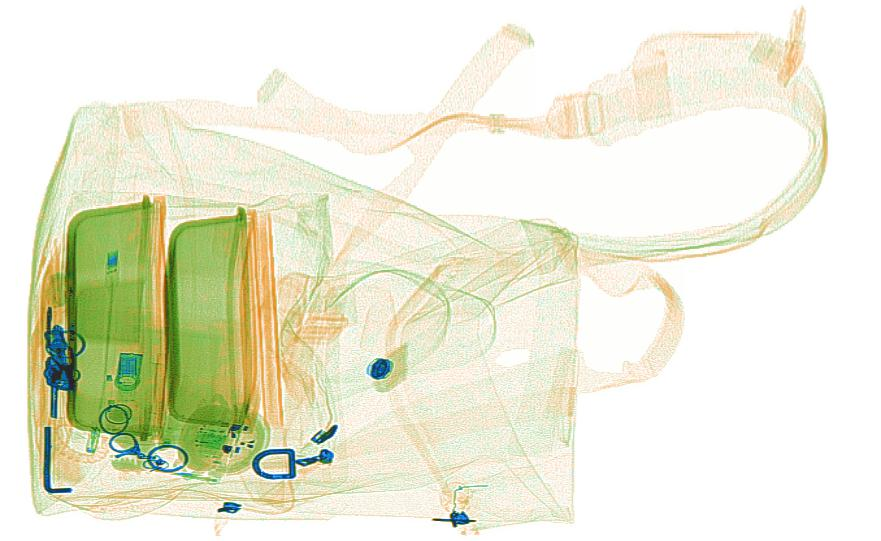USBFlashDisk: (113, 351, 145, 401)
